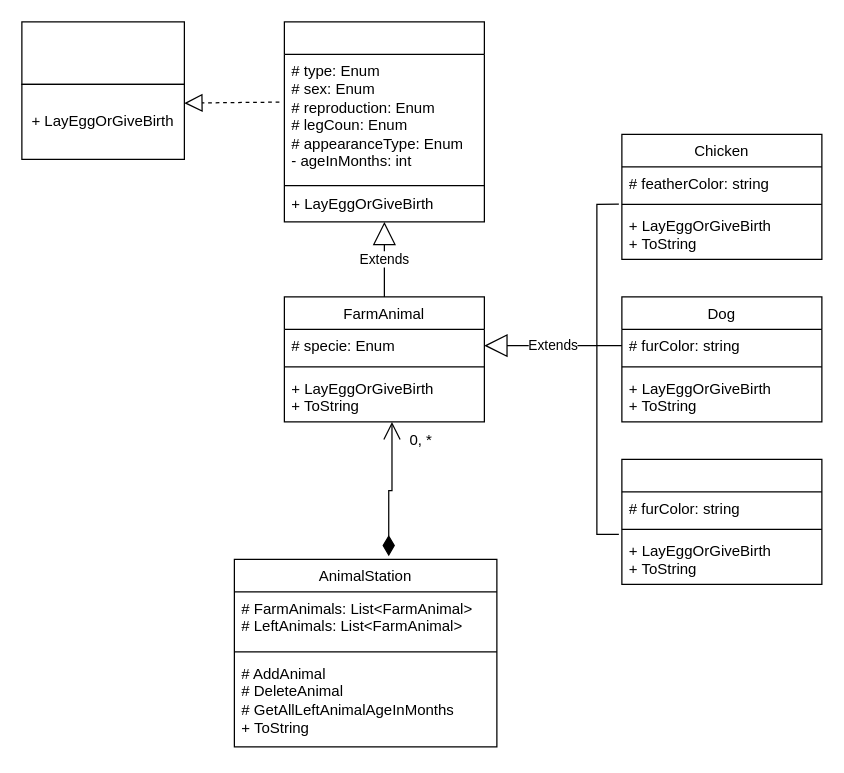
The diagram is 844 pixels wide and 773 high, and some of its shapes have lost their labels. Here are the shapes that lost their labels. From the top down, the box of each, then its label:
(21, 21, 184, 84): «interface» IReproduction
(283, 21, 484, 222): Animal
(621, 458, 822, 584): Rabbit
